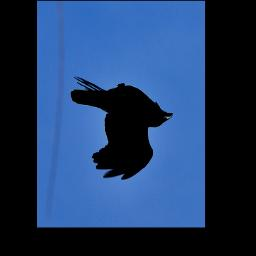Crow: (70, 74, 173, 180)
